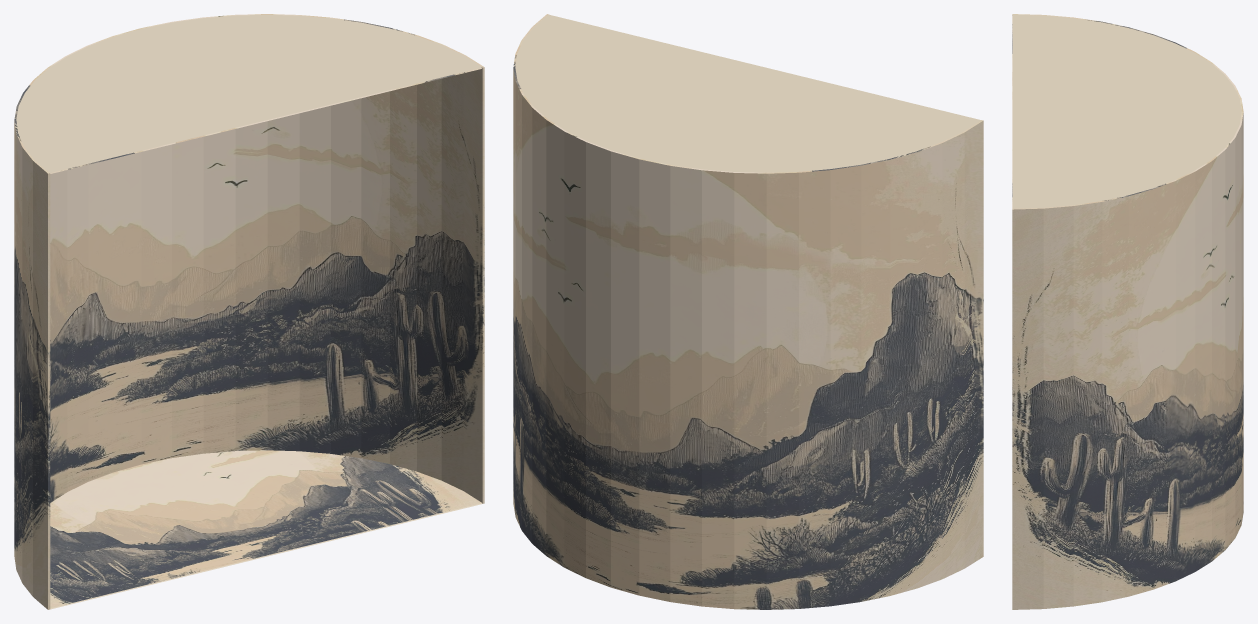
File: Background.fbx
3 renders of one model, left to right at view 1: azimuth 30°, elevation 25°; view 2: azimuth 150°, elevation 25°; view 3: azimuth 270°, elevation 25°, orthographic. The views are drawn at different scales.
Parts seen in each view (by area): view 1: BézierCircle, BézierCircle.002, BézierCircle.001; view 2: BézierCircle, BézierCircle.002; view 3: BézierCircle, BézierCircle.002.
Boxes of the visible parts, left/top/right/bottom form: BézierCircle: left=14, top=14, right=484, bottom=609; BézierCircle.002: left=16, top=14, right=482, bottom=173; BézierCircle.001: left=50, top=450, right=482, bottom=609; BézierCircle: left=513, top=14, right=983, bottom=609; BézierCircle.002: left=515, top=14, right=981, bottom=172; BézierCircle: left=1012, top=14, right=1243, bottom=609; BézierCircle.002: left=1012, top=14, right=1241, bottom=208.
Bounding box in the file's own units: 202 × 193 × 101.
